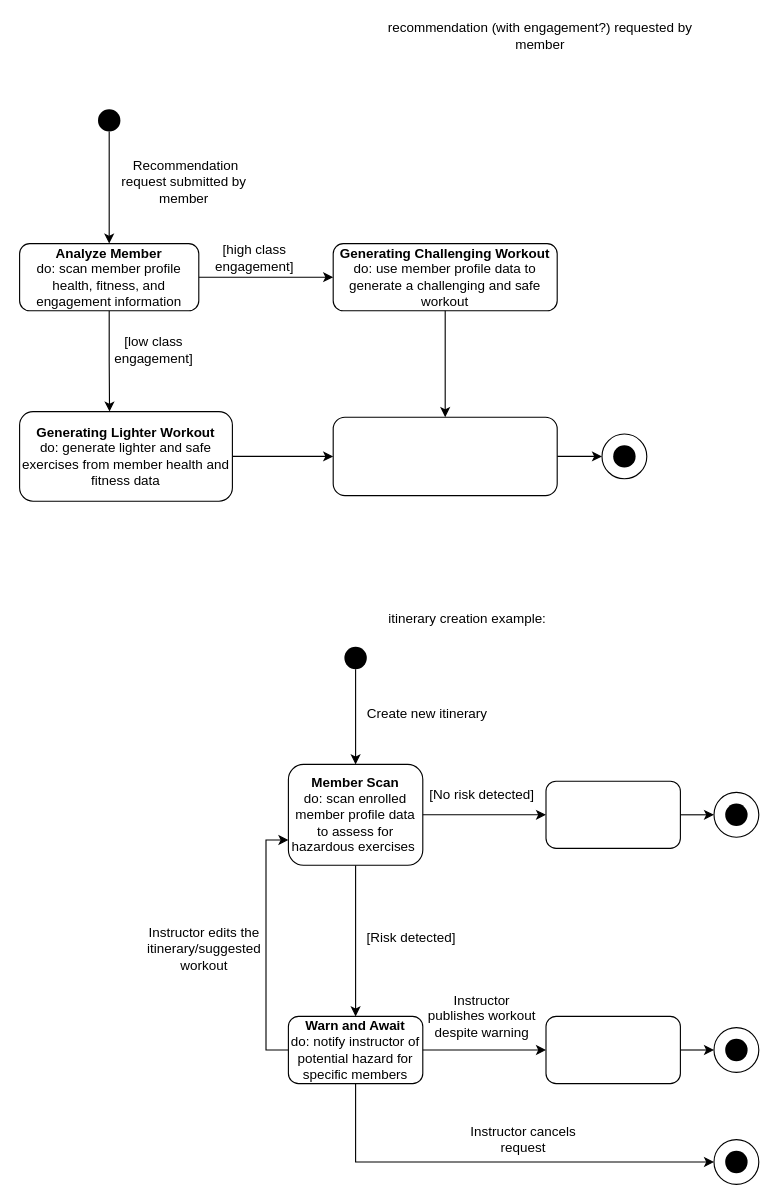
Some shapes in this 778 by 1204 pixel diagram are drawn without their labels. Each missing label, with the centre of its shape:
Push Itinerary do: publish itinerary: pixel 612 814
Push Itinerary do: publish itinerary with warnings for specific members: pixel 612 1049
Push Recommendation do: send generated workout to member application: pixel 444 456
